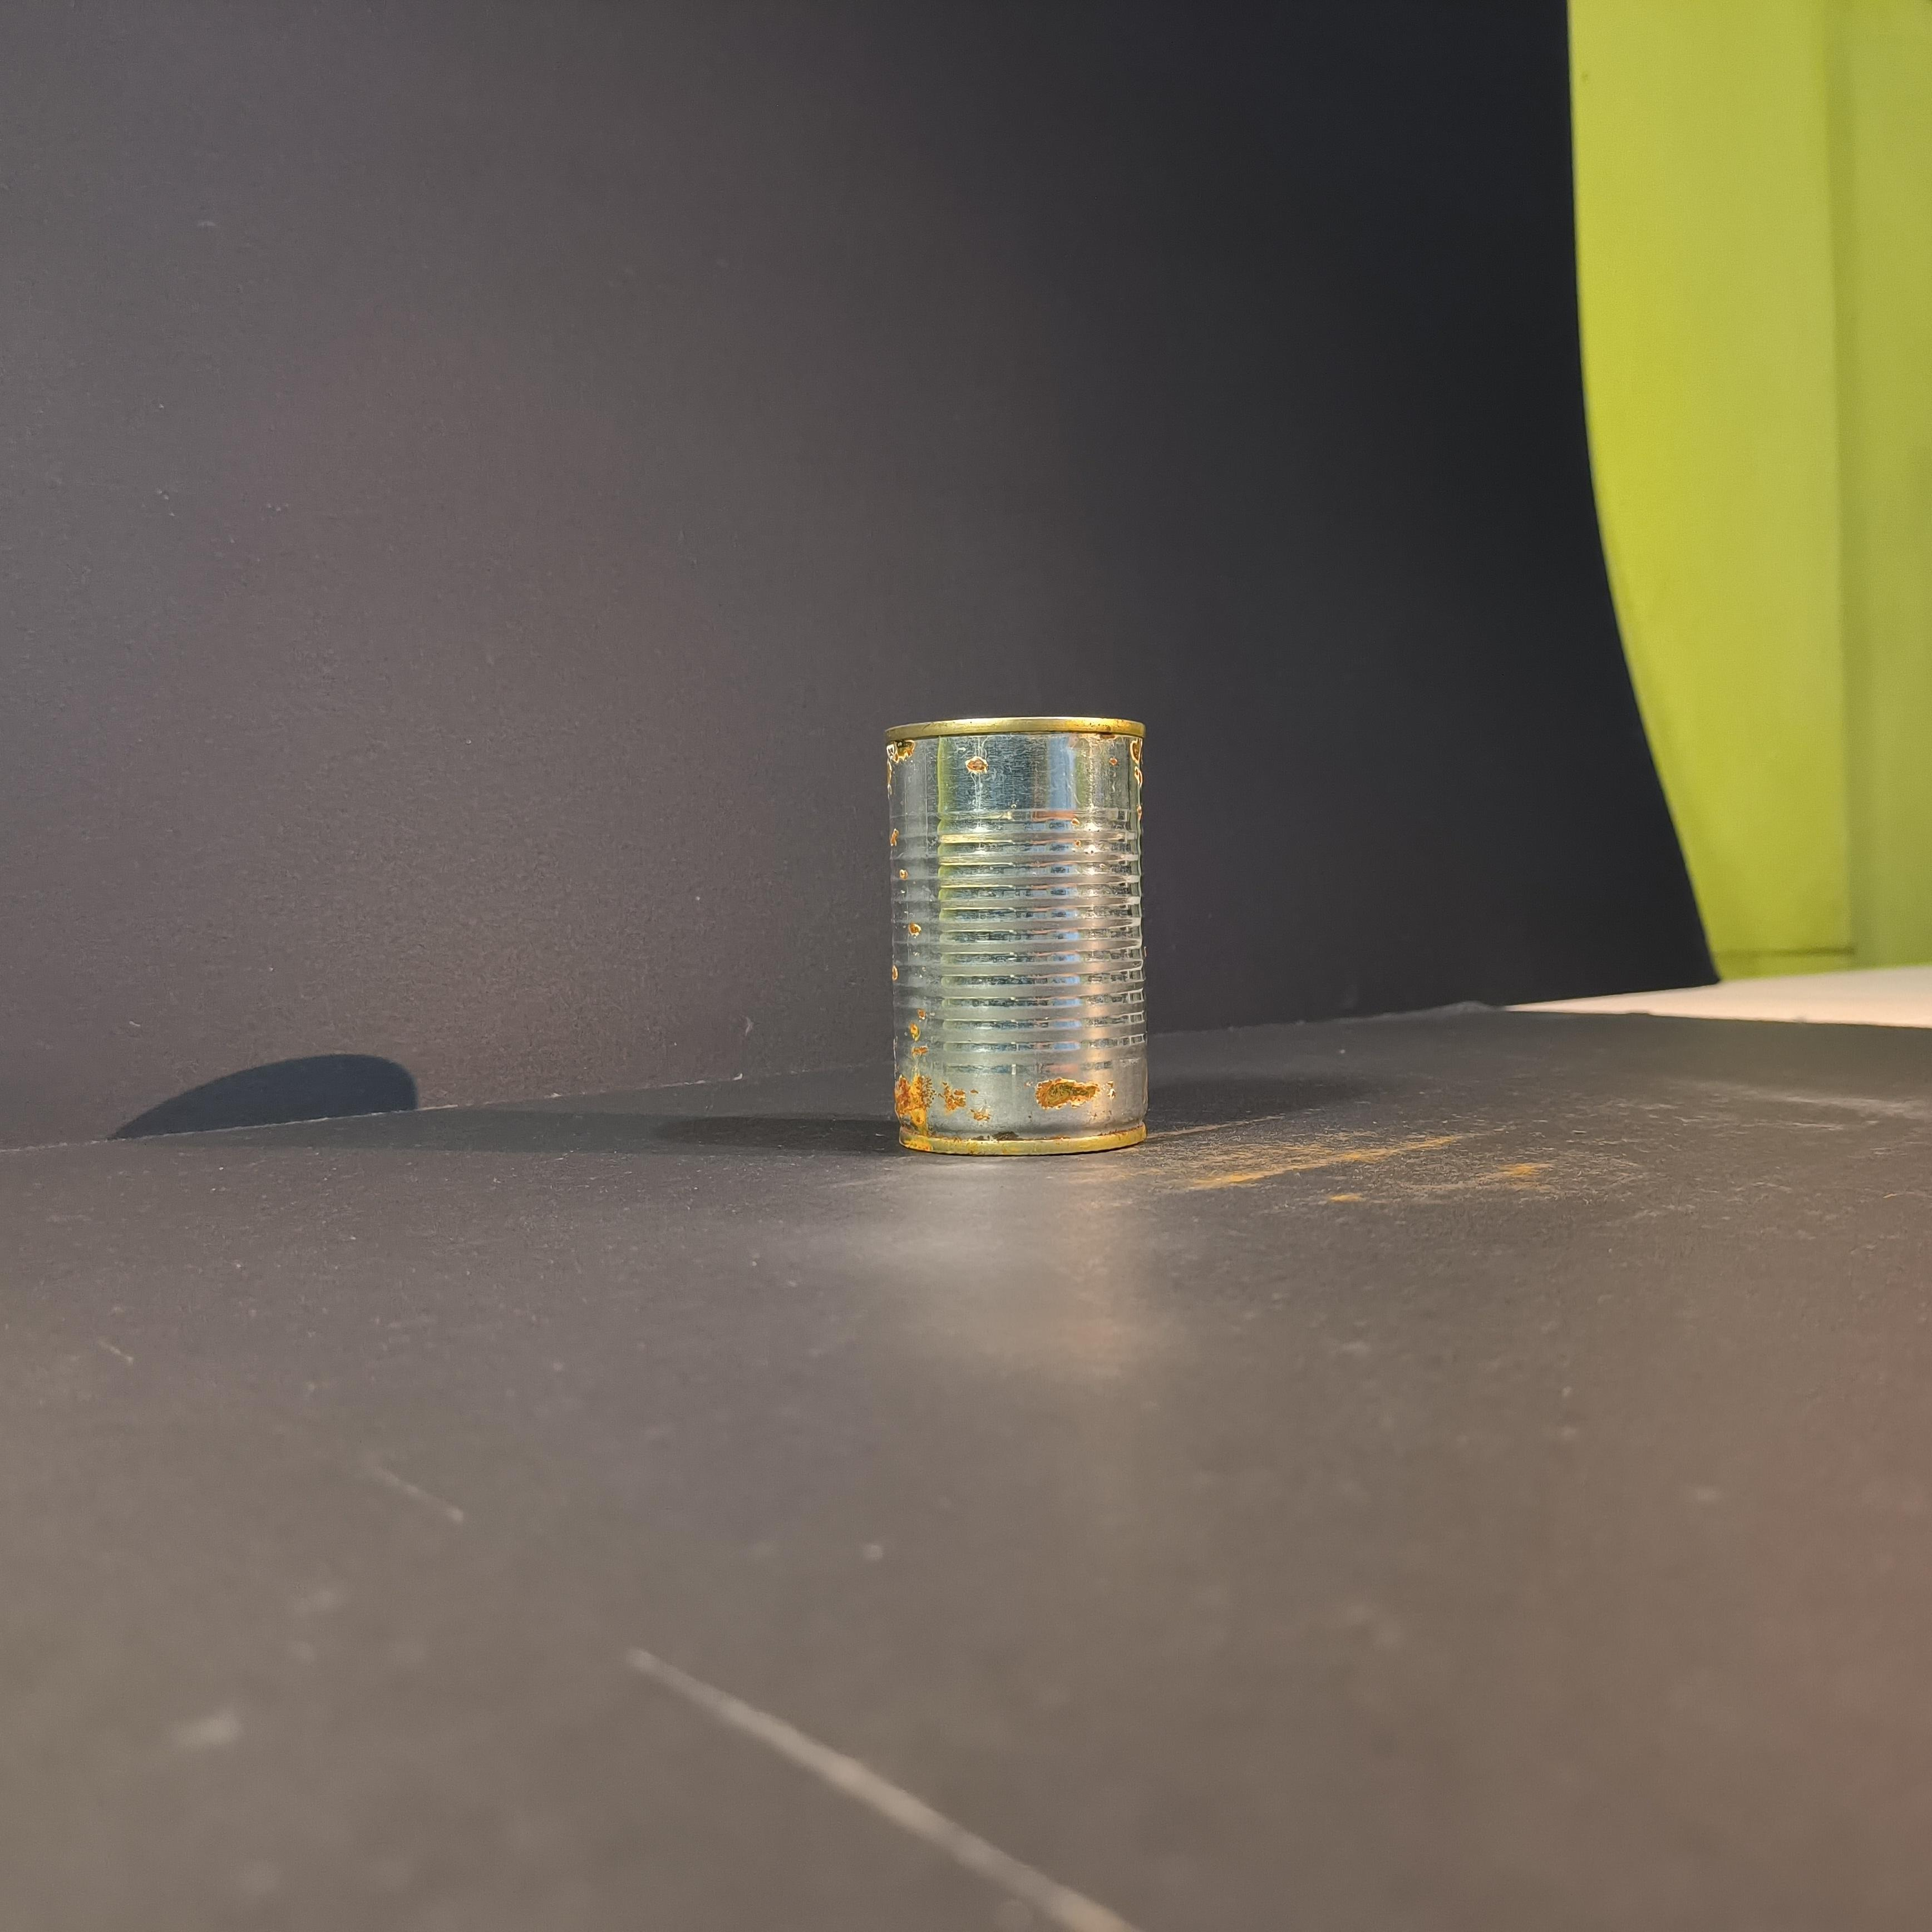Rusted: (876, 709, 1168, 1191)
